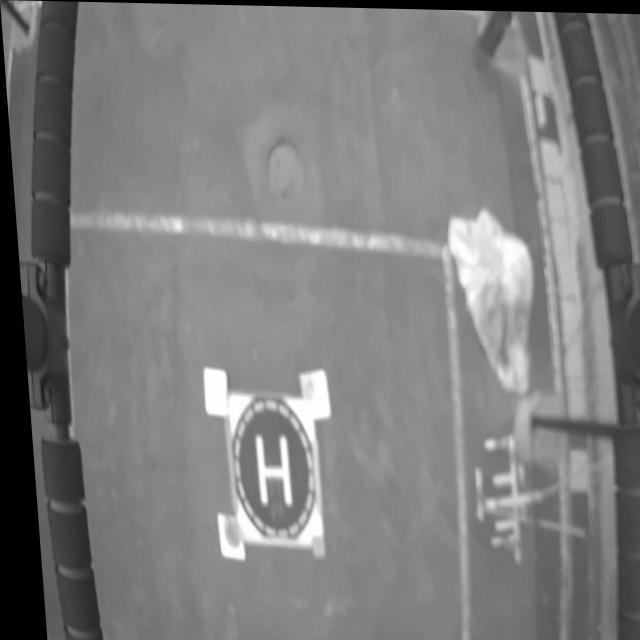Helipad: (249, 433, 285, 506)
